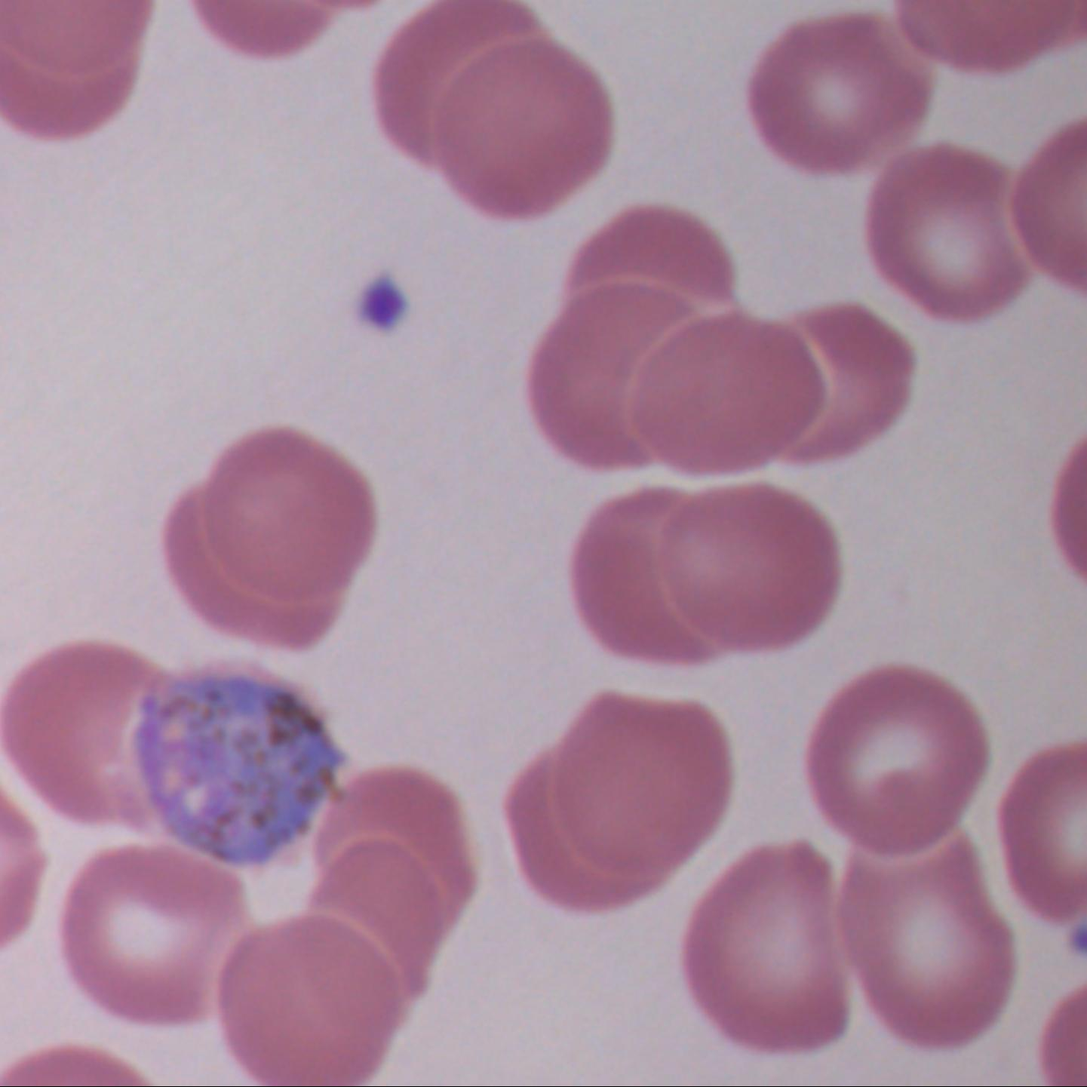Infected: (133, 660, 342, 877)
Uninfected: (308, 768, 478, 995), (531, 276, 724, 472), (614, 300, 818, 476), (838, 837, 1009, 1046), (683, 841, 847, 1052), (427, 34, 607, 225), (806, 668, 985, 854), (215, 916, 408, 1084), (62, 846, 243, 1024), (556, 687, 733, 869), (658, 480, 832, 663), (196, 423, 370, 596), (865, 144, 1029, 325), (163, 476, 337, 643), (0, 647, 173, 814), (750, 11, 929, 172), (377, 0, 555, 154), (563, 491, 722, 656), (514, 750, 676, 909), (772, 302, 912, 463), (563, 204, 735, 306), (207, 425, 350, 511), (314, 786, 425, 886)
